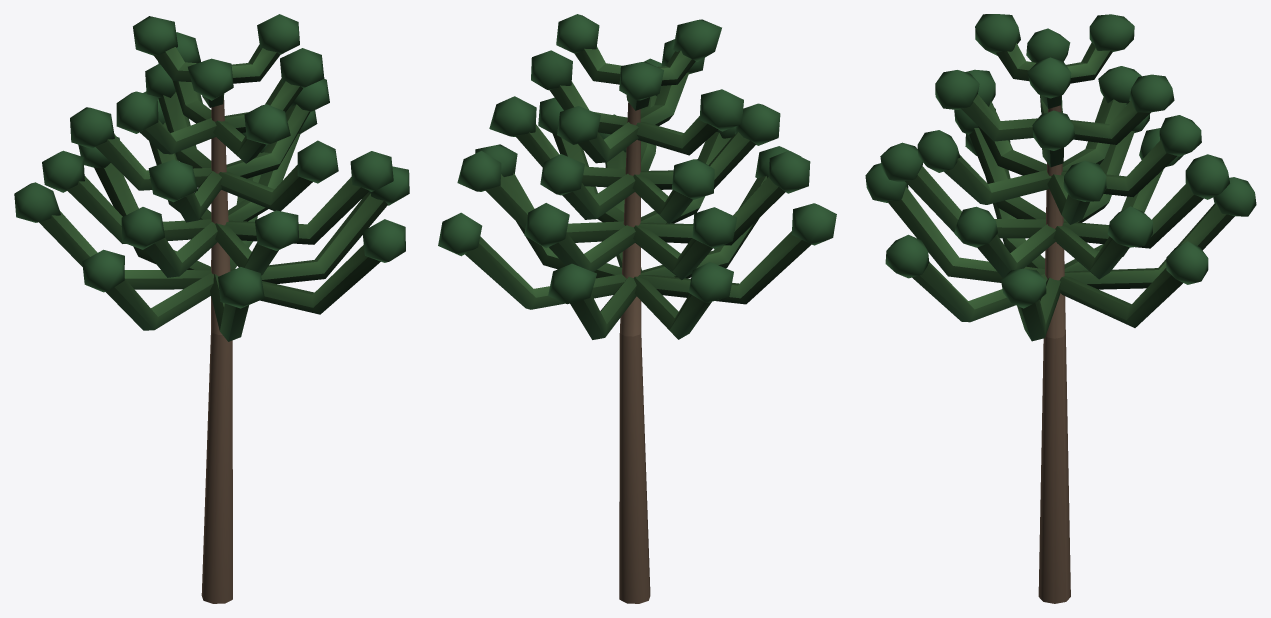
File: araucaria.glb
3 renders of one model, left to right at view 1: azimuth 30°, elevation 25°; view 2: azimuth 150°, elevation 25°; view 3: azimuth 270°, elevation 25°, orthographic.
Parts seen in each view (by area): view 1: araucaria_mesh; view 2: araucaria_mesh; view 3: araucaria_mesh.
Boxes of the visible parts, box(x1,y1,x2,y2) form: araucaria_mesh: box(14, 14, 409, 603); araucaria_mesh: box(438, 14, 836, 603); araucaria_mesh: box(865, 14, 1256, 603).
Bounding box in the file's own units: 7.79 × 12.42 × 7.74.
